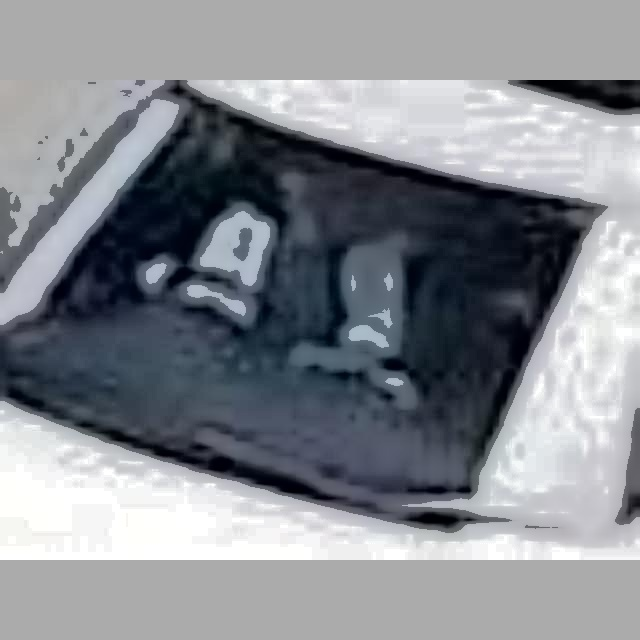tidak-pakai: (189, 167, 422, 400)
